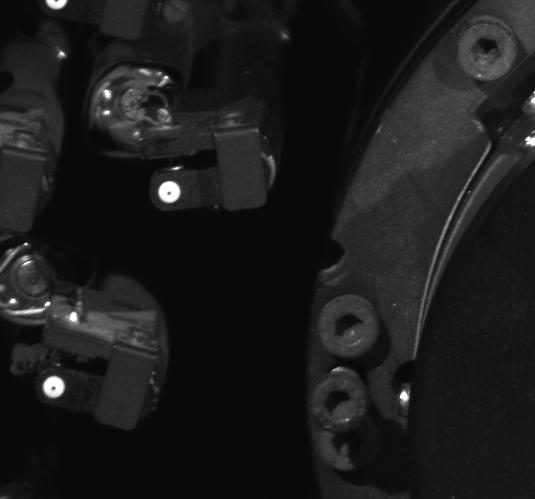fiber: (38, 371, 73, 403), (154, 178, 185, 206)
